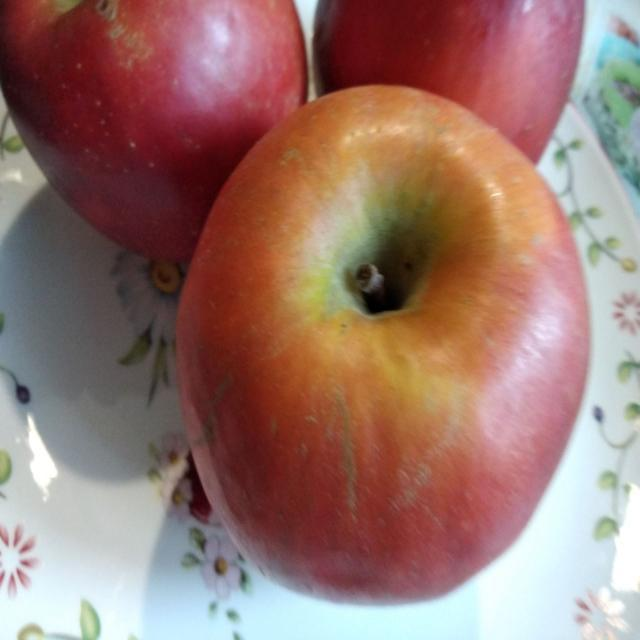Fresh Apple: (186, 95, 582, 575)
